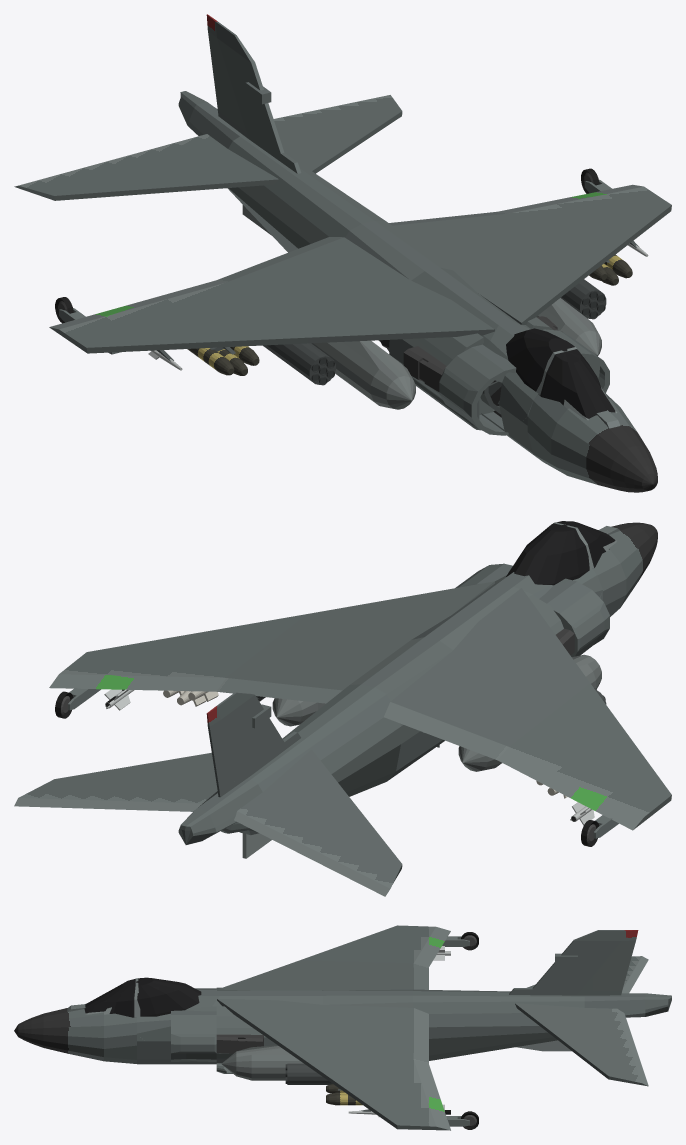
The model's file is jet_original.glb.
The picture shows the model from 3 angles, top to bottom: view 1: azimuth 30°, elevation 25°; view 2: azimuth 150°, elevation 25°; view 3: azimuth 270°, elevation 25°; orthographic projection. The views are drawn at different scales.
Parts seen in each view (by area): view 1: Empty; view 2: Empty; view 3: Empty.
Boxes of the visible parts, x1=… form: Empty: x1=14, y1=14, x2=671, y2=492; Empty: x1=14, y1=521, x2=671, y2=896; Empty: x1=14, y1=925, x2=671, y2=1130.
Size of the model in its own units: 156 by 50.17 by 217.
Materials: 9 (9 with a texture image).
